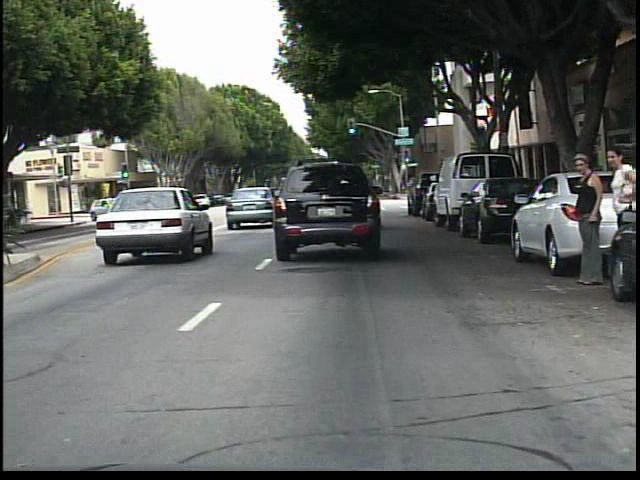person: (599, 142, 638, 284), (565, 152, 604, 289)
